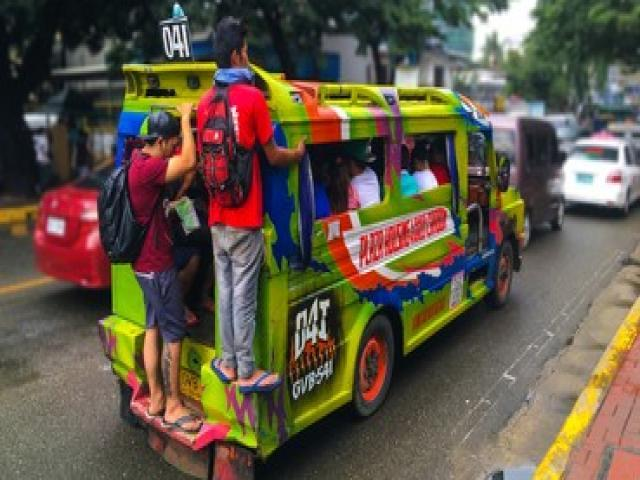jeepney: (101, 52, 538, 480)
